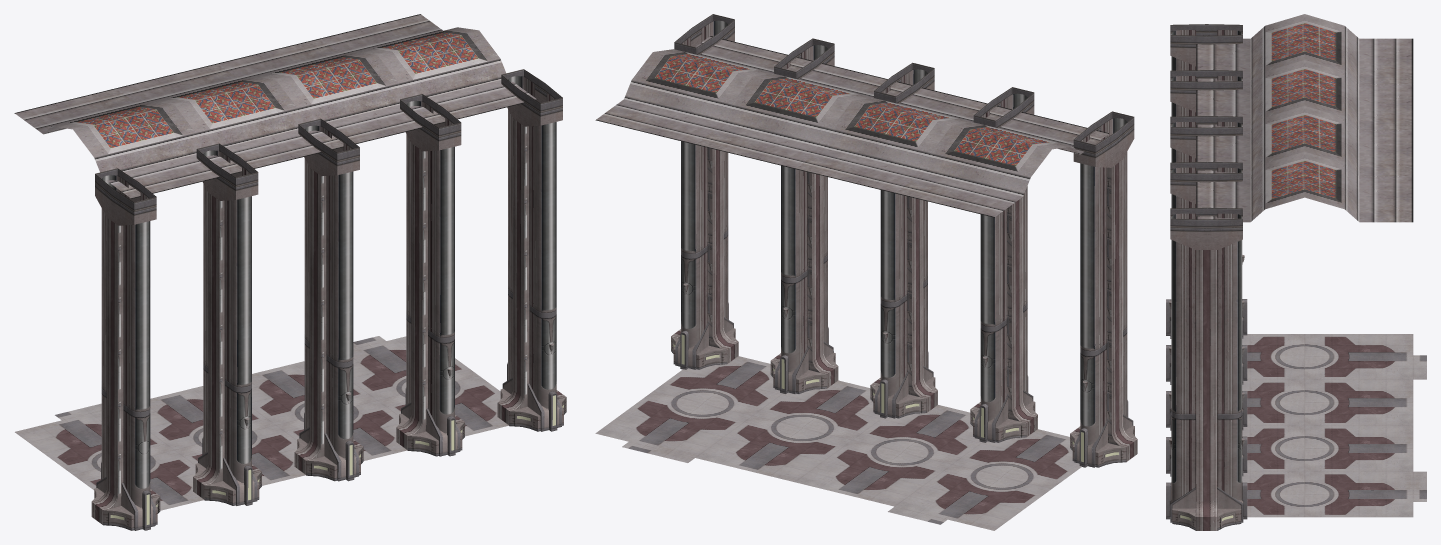
Rendered from Cor1_bldg_Minor_hall.fbx.
The picture shows the model from 3 angles, left to right: view 1: azimuth 30°, elevation 25°; view 2: azimuth 150°, elevation 25°; view 3: azimuth 270°, elevation 25°; orthographic projection. The views are drawn at different scales.
Visible parts, largest first — view 1: Minor_hall, pillar4, pillar, pillar5, pillar3, pillar2; view 2: Minor_hall, pillar4, pillar3, pillar5, pillar, pillar2; view 3: Minor_hall, pillar5, pillar4, pillar3, pillar, pillar2.
Boxes of the visible parts, left/top/right/bottom form: Minor_hall: left=14, top=14, right=537, bottom=510; pillar4: left=91, top=168, right=160, bottom=530; pillar: left=294, top=118, right=363, bottom=481; pillar5: left=497, top=69, right=566, bottom=431; pillar3: left=193, top=143, right=261, bottom=505; pillar2: left=396, top=94, right=464, bottom=456; Minor_hall: left=595, top=36, right=1108, bottom=530; pillar4: left=1070, top=111, right=1137, bottom=467; pillar3: left=970, top=87, right=1037, bottom=442; pillar5: left=671, top=14, right=738, bottom=369; pillar: left=870, top=62, right=937, bottom=418; pillar2: left=770, top=38, right=838, bottom=393; Minor_hall: left=1196, top=14, right=1426, bottom=517; pillar5: left=1170, top=207, right=1243, bottom=530; pillar4: left=1170, top=24, right=1243, bottom=338; pillar3: left=1170, top=70, right=1243, bottom=384; pillar: left=1170, top=116, right=1243, bottom=430; pillar2: left=1170, top=162, right=1243, bottom=476.
Bounding box in the file's own units: 3652 × 2604 × 1921.
